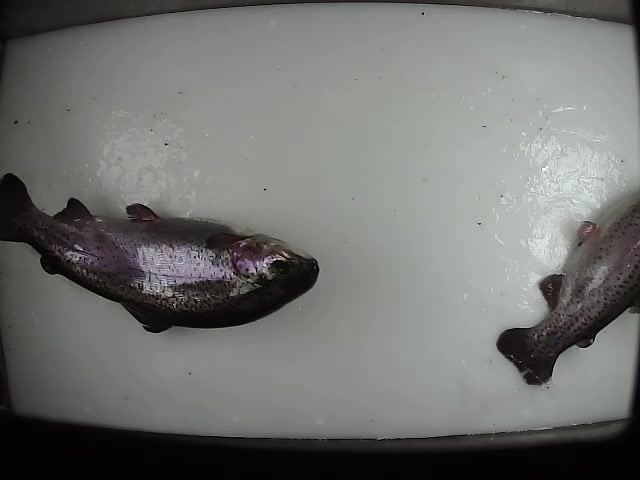Fish: (1, 170, 319, 333)
